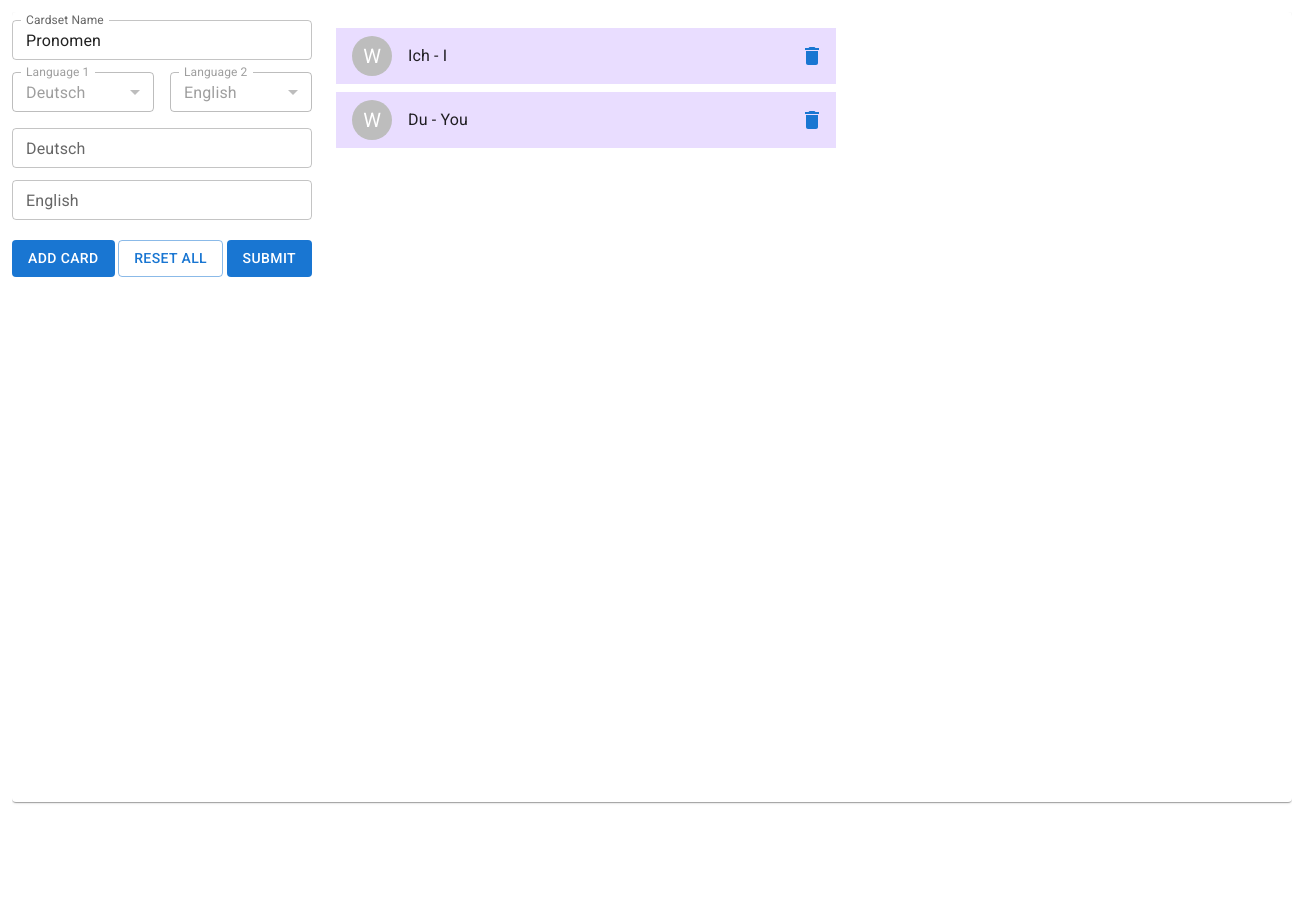
Test: Record › should clear the recorded cards, clicking "Reset All" button
Expected: the number of list items with test id "record-cardset-display-card" is 2, [336, 28, 836, 84]; [336, 92, 836, 148]
Click the button "Reset all". click: (171, 258)
box: [118, 240, 223, 276]
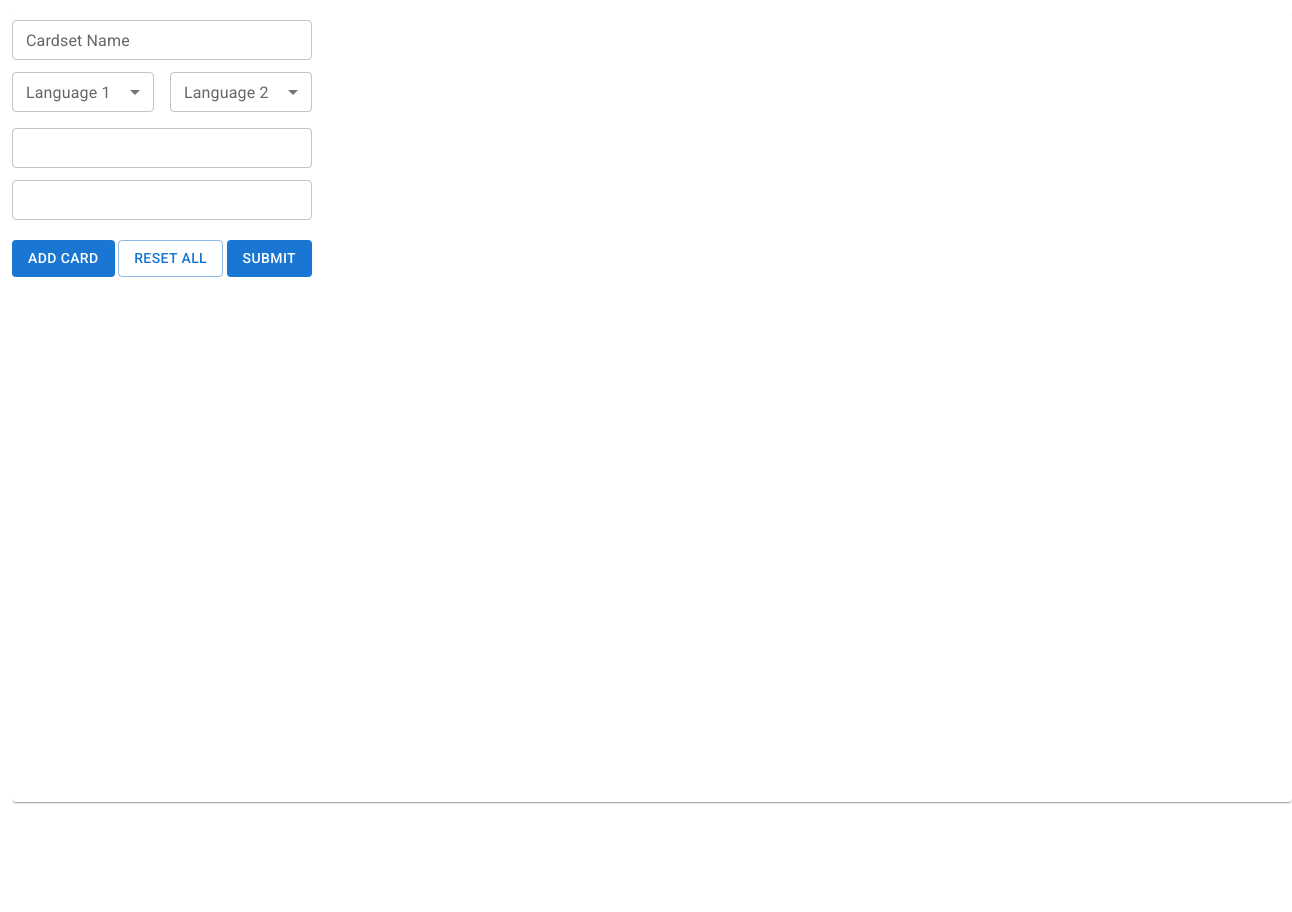
Result: no list items with test id "record-cardset-display-card" are shown
